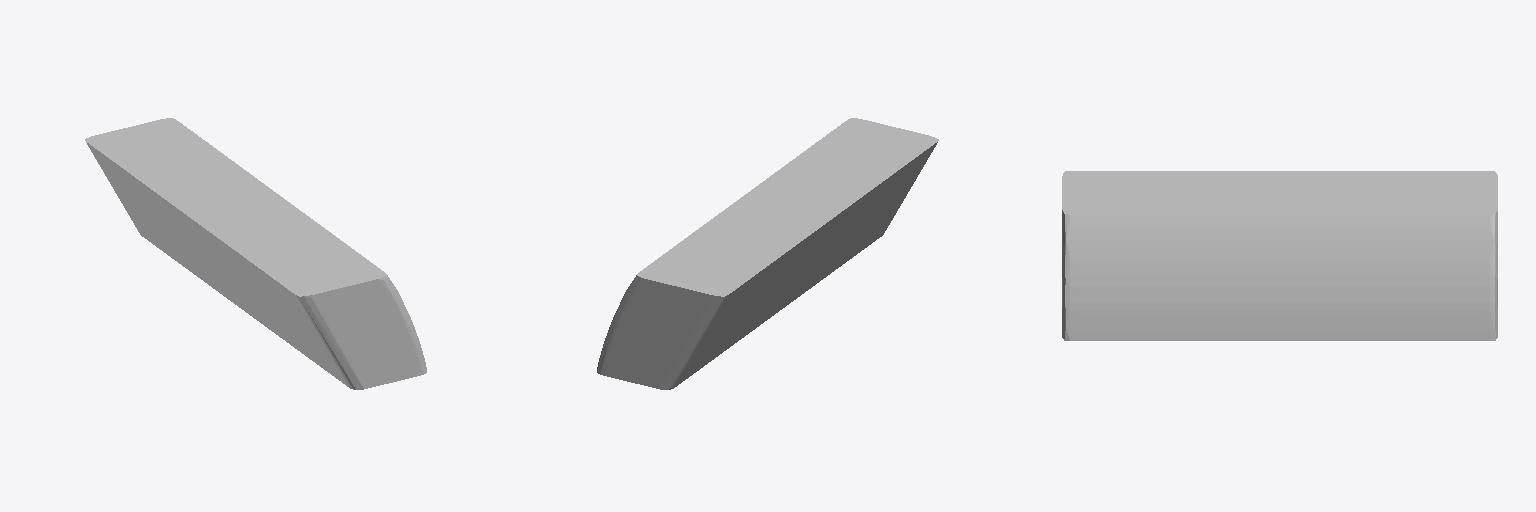
The model's file is Cylinder_with_Hole_collision_5.obj.
The picture shows the model from 3 angles: view 1: azimuth 30°, elevation 25°; view 2: azimuth 150°, elevation 25°; view 3: azimuth 270°, elevation 25°; orthographic projection.
Bounding box in the file's own units: 49.23 × 38.68 × 143.